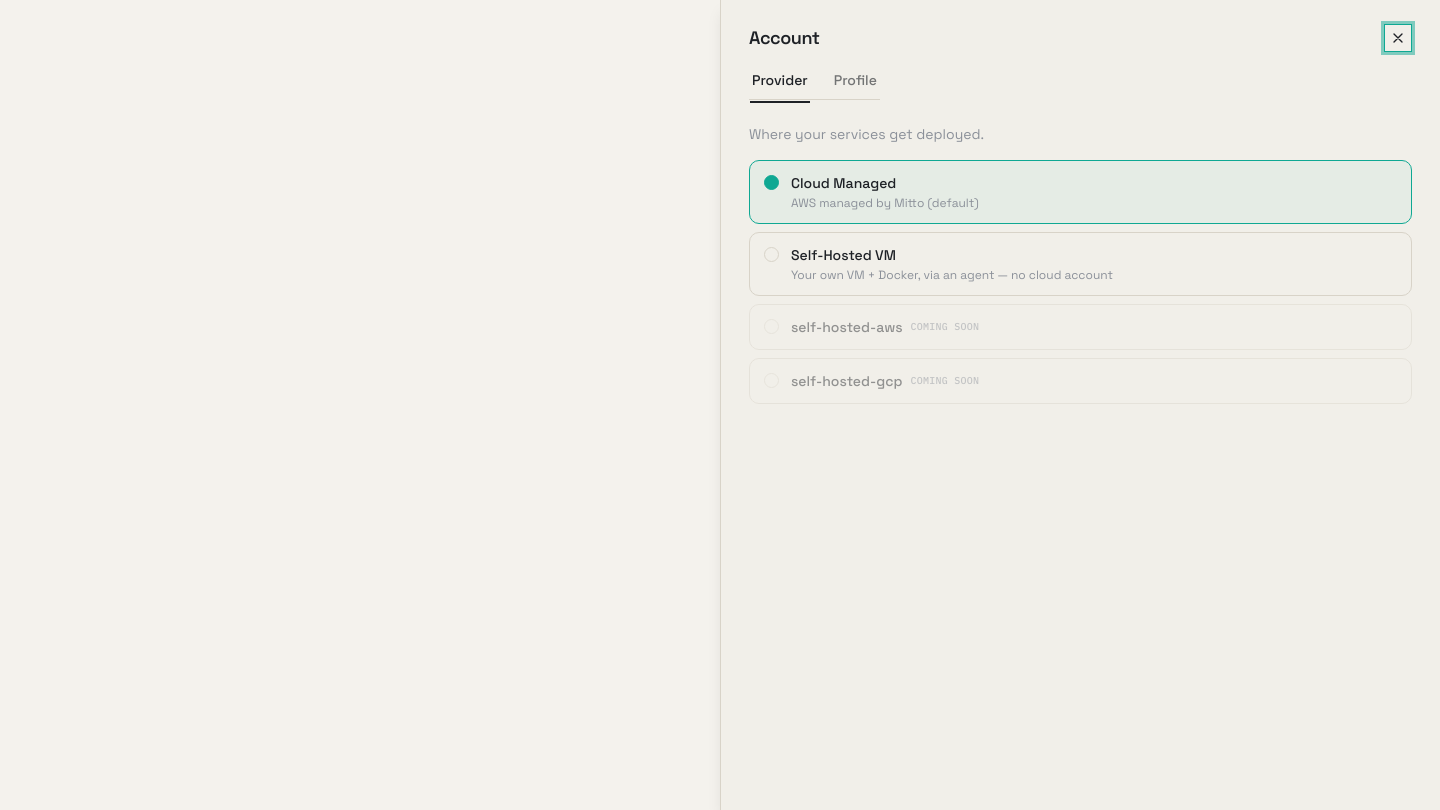
Scenario: AccountPanel › shows the profile tab
Click the tab "Profile" at [855, 84], box [831,68,880,98]
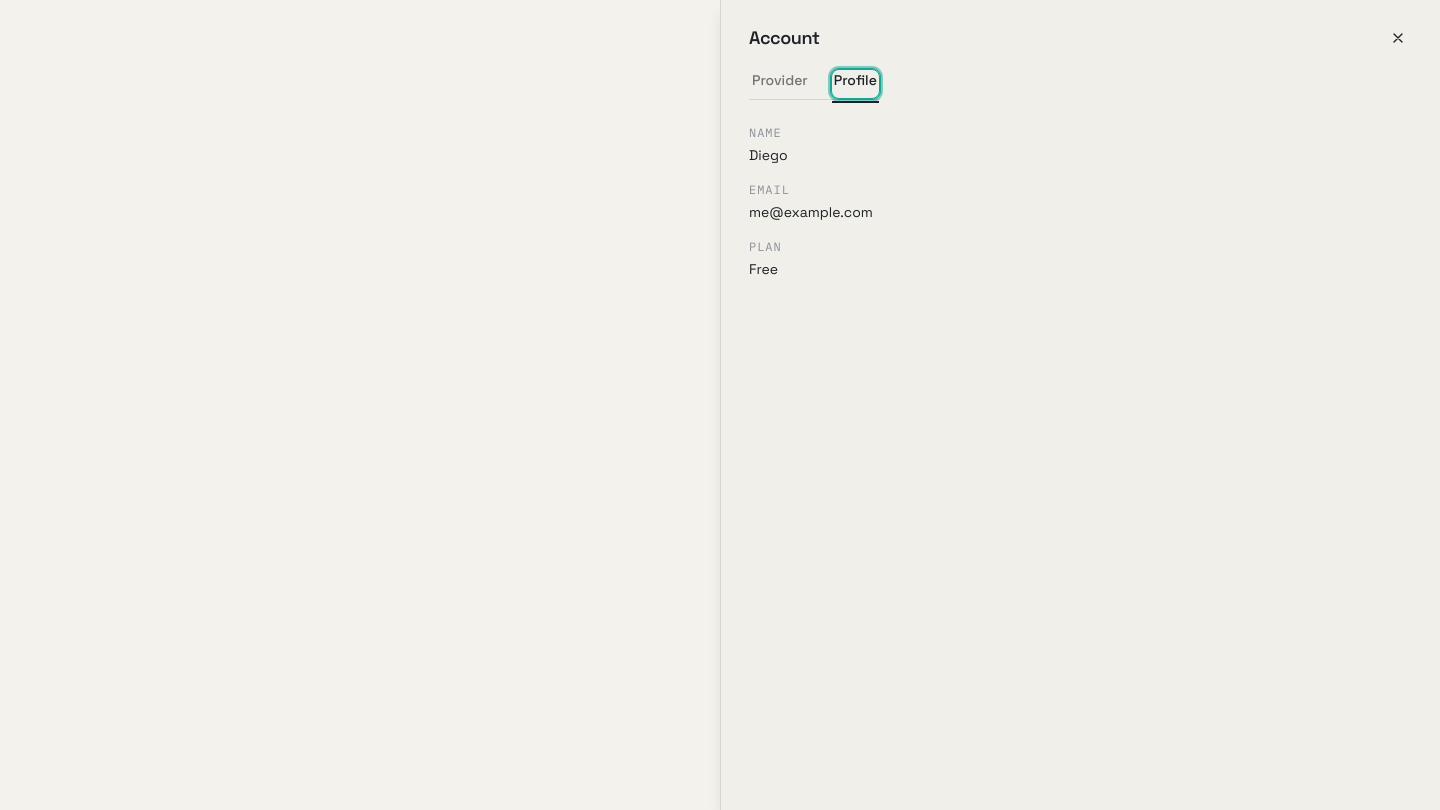
expect the text "me@example.com" is shown: met, box [749,203,873,221]
expect the text "Diego" is shown: met, box [749,146,788,164]
